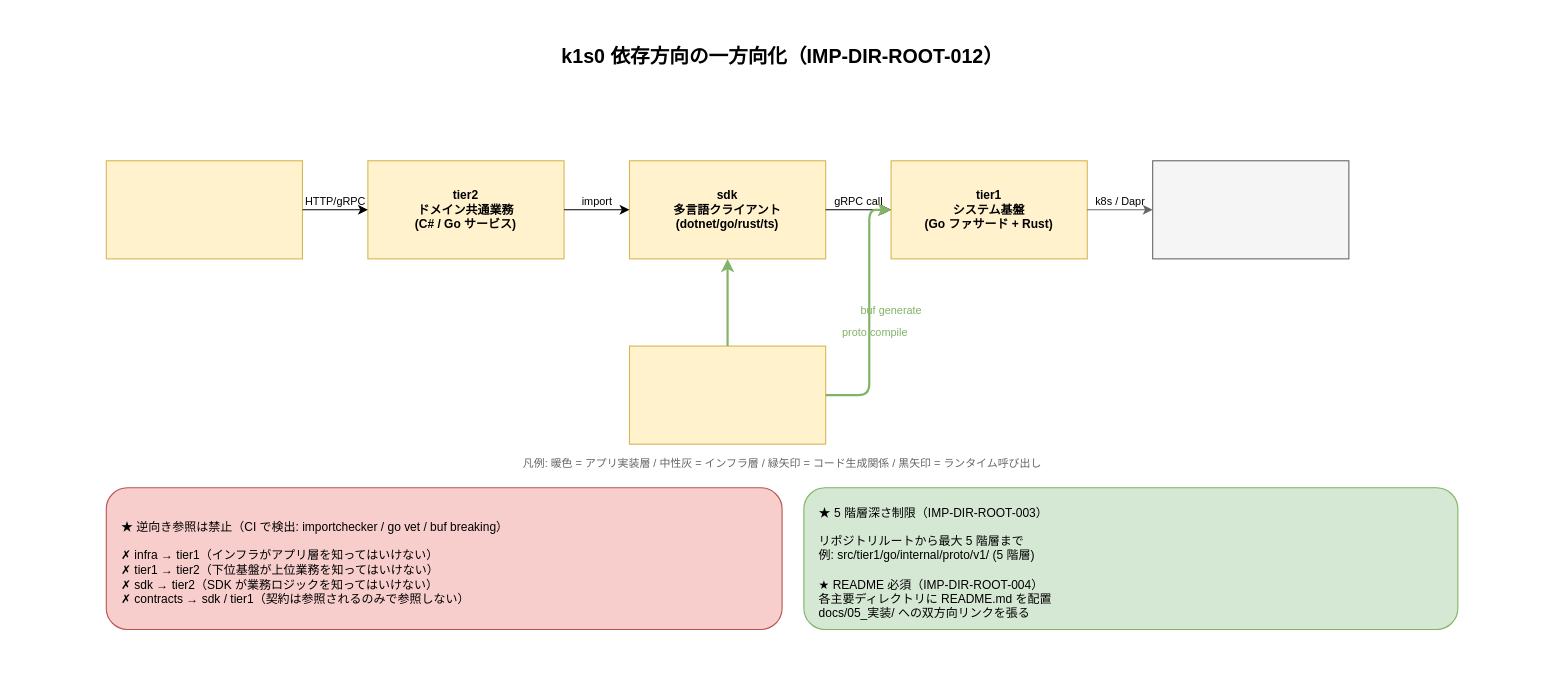
Some shapes in this 1563 by 691 pixel diagram are drawn without their labels. Each missing label, with the centre of its shape:
"contracts Protobuf 定義（生成元） (11 公開 API + internal)" goes at (727,394).
"infra クラスタ素構成 (k8s + CNCF OSS)" goes at (1250,209).
"tier3 エンドアプリ (web/native/bff/legacy-wrap)" goes at (203,209).
